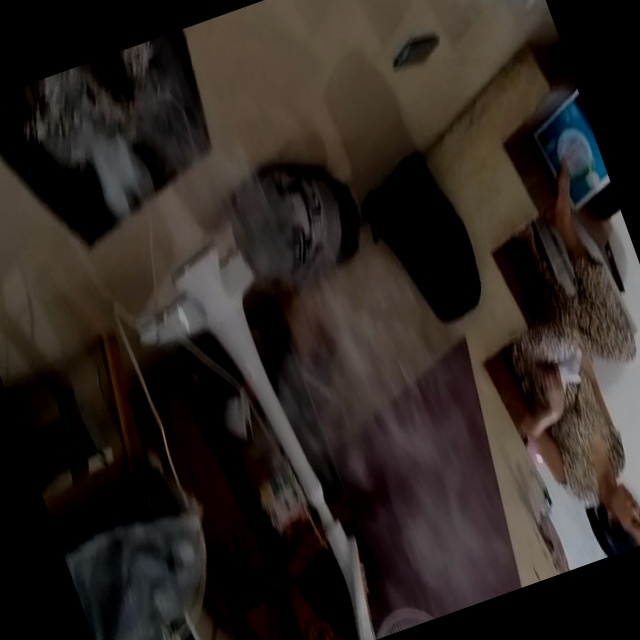smoke: (36, 84, 211, 262)
